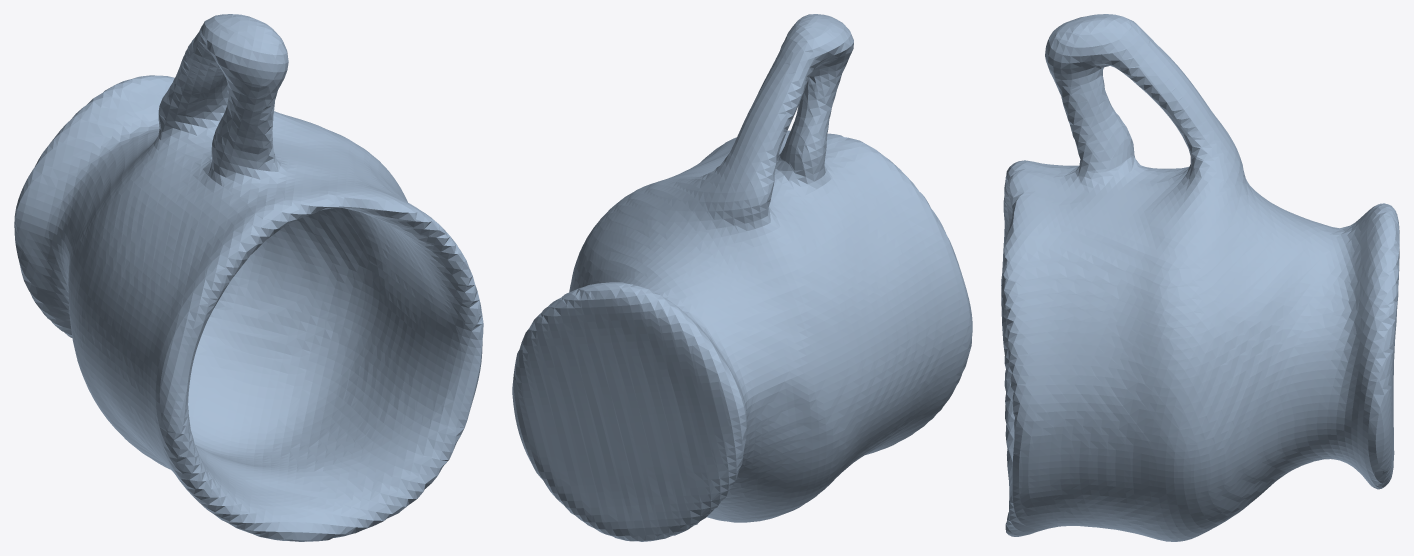
3 renders of one model, left to right at view 1: azimuth 30°, elevation 25°; view 2: azimuth 150°, elevation 25°; view 3: azimuth 270°, elevation 25°, orthographic. The views are drawn at different scales.
Visible parts, largest first — view 1: 50_mesh; view 2: 50_mesh; view 3: 50_mesh.
Part boxes in pixels (<box>): 50_mesh: <box>14,14,483,541</box>; 50_mesh: <box>512,14,972,541</box>; 50_mesh: <box>1001,14,1399,541</box>.
Bounding box in the file's own units: 0.3426 × 0.4877 × 0.366.
